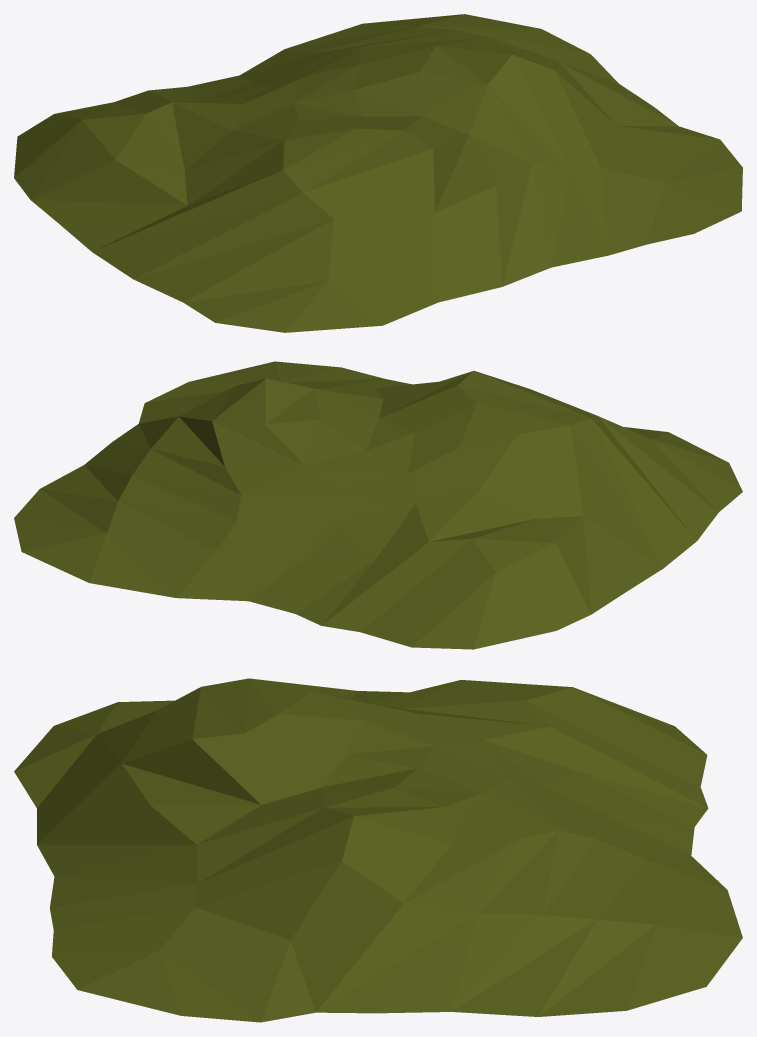
File: Island_7.fbx
3 renders of one model, top to bottom at view 1: azimuth 30°, elevation 25°; view 2: azimuth 150°, elevation 25°; view 3: azimuth 270°, elevation 25°, orthographic. The views are drawn at different scales.
Parts seen in each view (by area): view 1: Island_7; view 2: Island_7; view 3: Island_7.
Part boxes in pixels (x1,y1,x2,y2): Island_7: (14, 14, 742, 332); Island_7: (14, 361, 742, 649); Island_7: (14, 678, 742, 1022).
Size of the model in its own units: 21.68 by 3.4 by 20.14.
